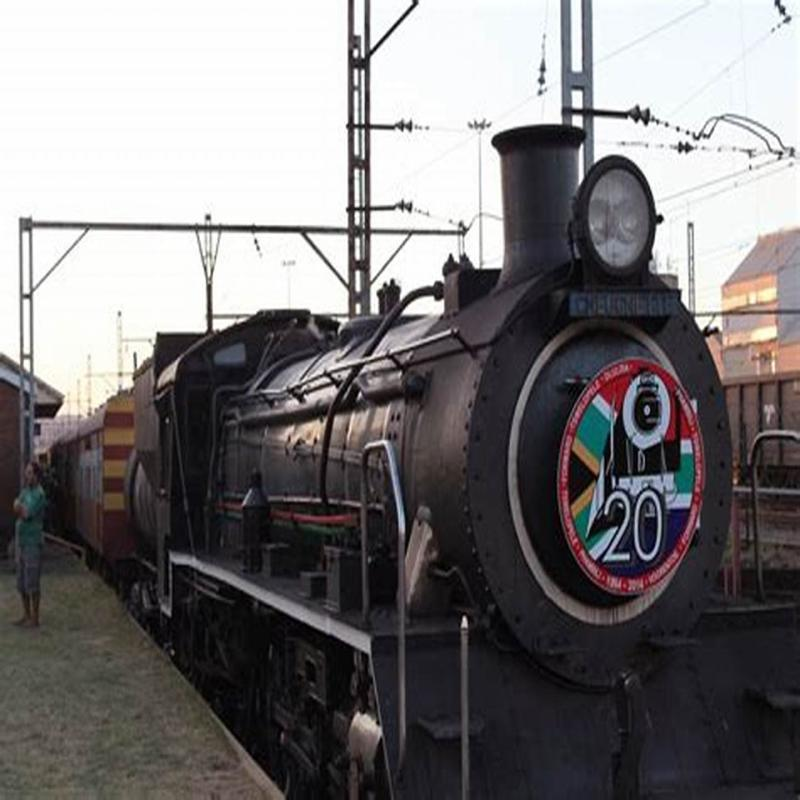train: (125, 142, 729, 723)
